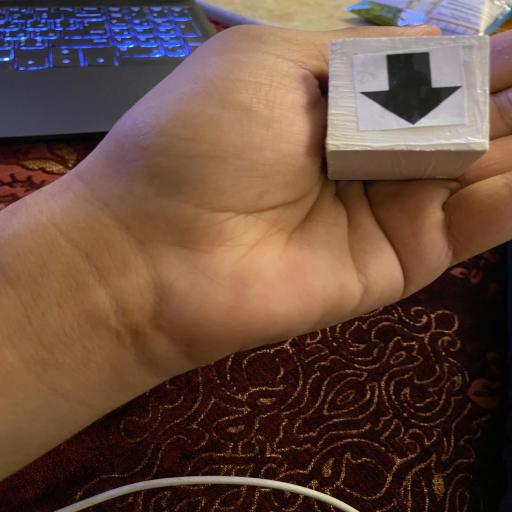Down: (321, 32, 494, 180)
